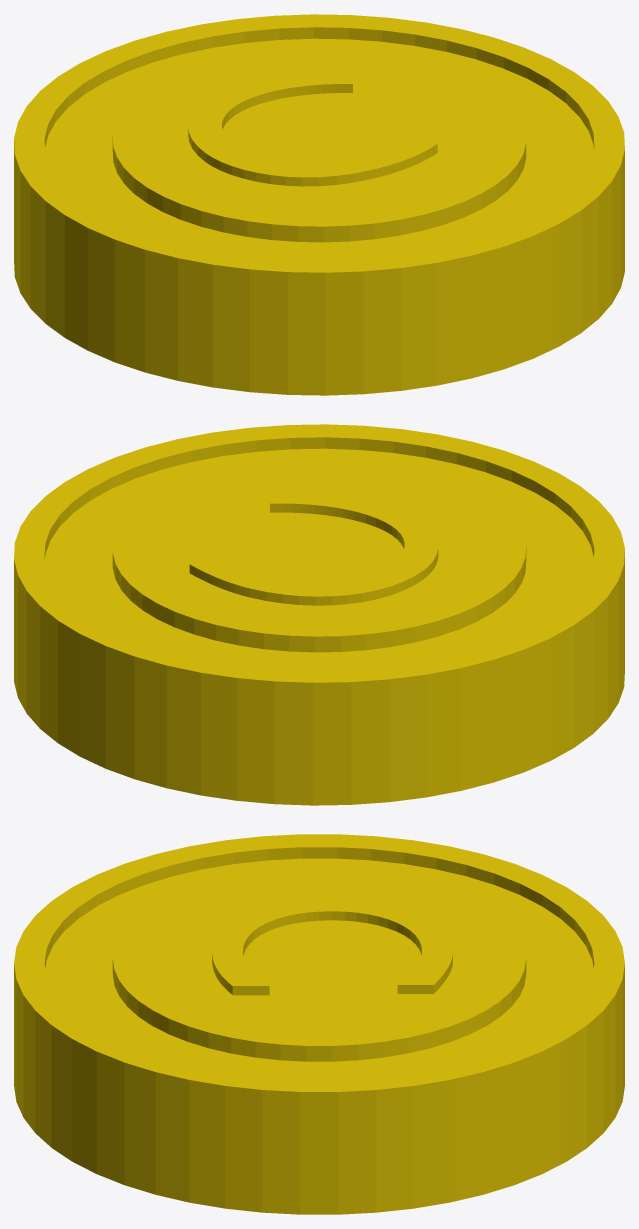
The model's file is Coins.fbx.
3 renders of one model, top to bottom at view 1: azimuth 30°, elevation 25°; view 2: azimuth 150°, elevation 25°; view 3: azimuth 270°, elevation 25°, orthographic.
Visible parts, largest first — view 1: Coin.001, Text.002; view 2: Coin.001, Text.002; view 3: Coin.001, Text.002.
Part boxes in pixels (x1,y1,x2,y2): Coin.001: [14, 14, 624, 395]; Text.002: [188, 70, 437, 186]; Coin.001: [14, 424, 624, 805]; Text.002: [189, 490, 438, 605]; Coin.001: [14, 834, 624, 1214]; Text.002: [212, 896, 452, 995].
Size of the model in its own units: 50.28 by 13.44 by 50.38.
